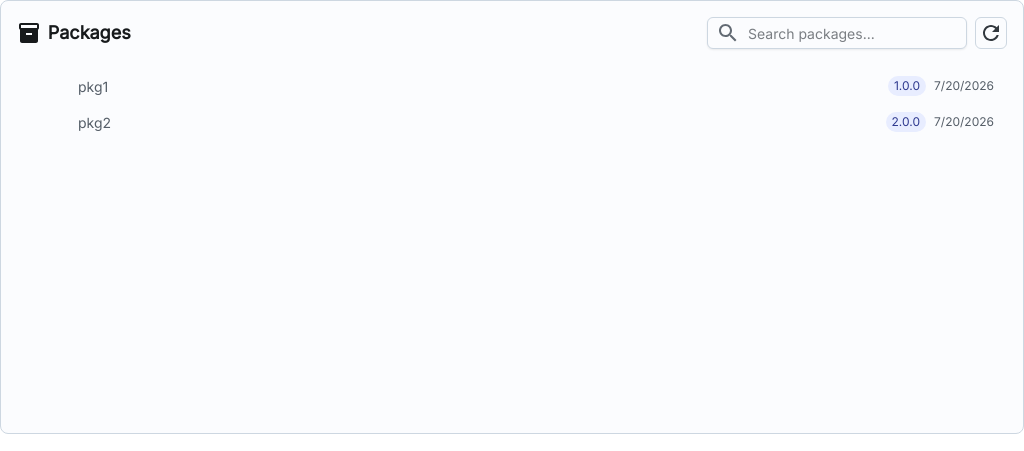
Scenario: RepoBrowse › handles search filtering
The image size is (1024, 451).
Expected: the text "pkg1" is shown, x1=78 y1=76 x2=108 y2=96
Type "pkg1" into the field with placeholder "Search packages...".
click(853, 33); type("pkg1")  # box x1=748 y1=18 x2=958 y2=48
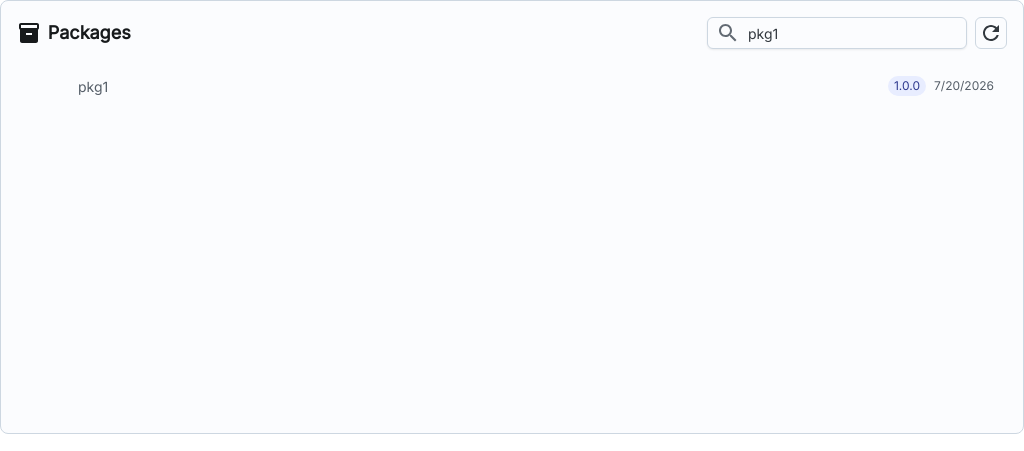
Expected: the text "pkg1" is shown, x1=78 y1=76 x2=108 y2=96
Now the button "pkg2" is gone
